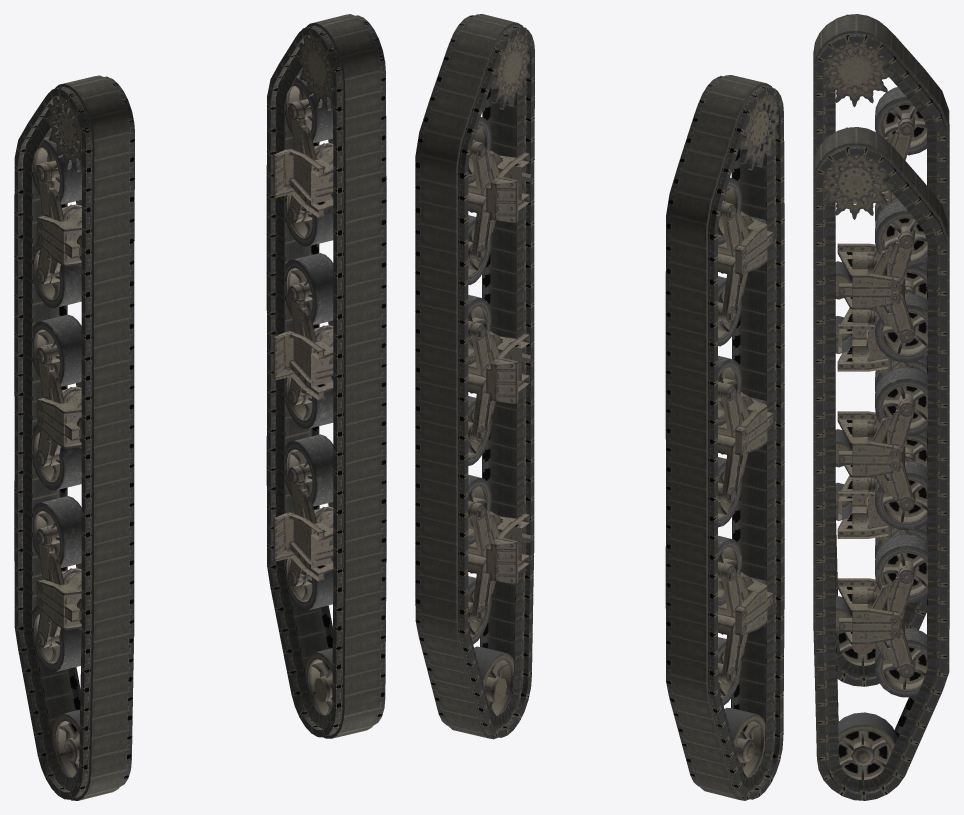
The model's file is Chassis.glb.
The picture shows the model from 3 angles, left to right: view 1: azimuth 30°, elevation 25°; view 2: azimuth 150°, elevation 25°; view 3: azimuth 270°, elevation 25°; orthographic projection. The views are drawn at different scales.
Parts seen in each view (by area): view 1: set_0_group_0, set_1_group_0, set_2_group_0, set_3_group_0; view 2: set_0_group_0, set_1_group_0, set_2_group_0, set_3_group_0; view 3: set_2_group_0, set_1_group_0, set_3_group_0, set_0_group_0.
Boxes of the visible parts, left/top/right/bottom form: set_0_group_0: left=14, top=75, right=134, bottom=800; set_1_group_0: left=266, top=14, right=386, bottom=738; set_2_group_0: left=273, top=15, right=384, bottom=715; set_3_group_0: left=32, top=76, right=133, bottom=777; set_0_group_0: left=665, top=75, right=784, bottom=800; set_1_group_0: left=415, top=14, right=534, bottom=739; set_2_group_0: left=452, top=15, right=531, bottom=715; set_3_group_0: left=701, top=75, right=778, bottom=777; set_2_group_0: left=815, top=127, right=927, bottom=779; set_1_group_0: left=813, top=127, right=949, bottom=800; set_3_group_0: left=815, top=15, right=927, bottom=665; set_0_group_0: left=813, top=14, right=949, bottom=686.
Bounding box in the file's own units: 2.61 × 5.82 × 1.09.
4 materials, 4 textured.
